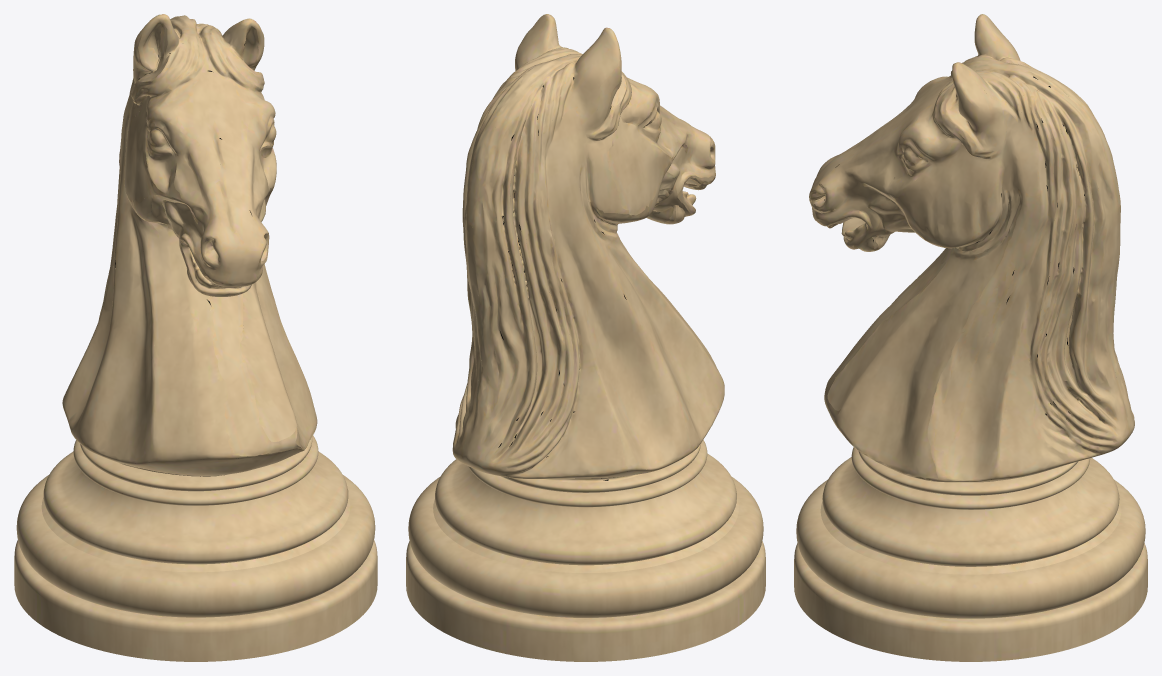
Rendered from springer_weiss.glb.
3 renders of one model, left to right at view 1: azimuth 30°, elevation 25°; view 2: azimuth 150°, elevation 25°; view 3: azimuth 270°, elevation 25°, orthographic. The views are drawn at different scales.
Visible parts, largest first — view 1: springer_weiss; view 2: springer_weiss; view 3: springer_weiss.
Boxes of the visible parts, x1,y1,x2,y2 form: springer_weiss: [14, 14, 377, 661]; springer_weiss: [406, 14, 765, 661]; springer_weiss: [794, 14, 1147, 661].
Size of the model in its own units: 0.8 by 1.39 by 0.8.
1 material, 1 textured.
